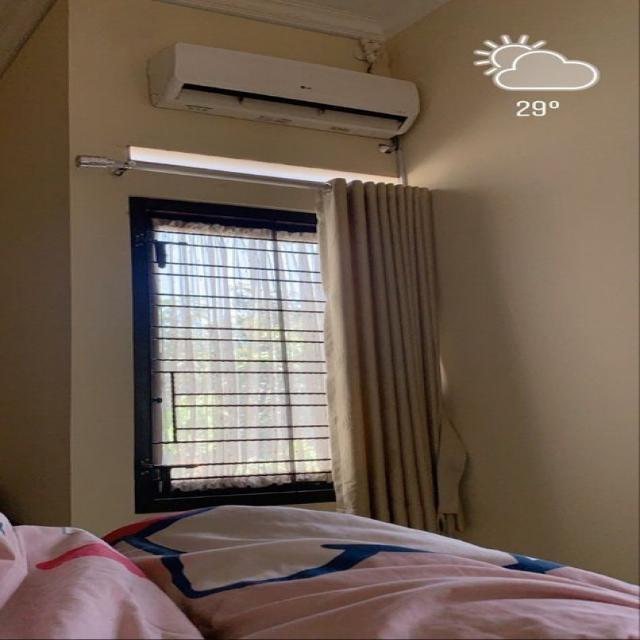AC: (145, 40, 419, 138)
